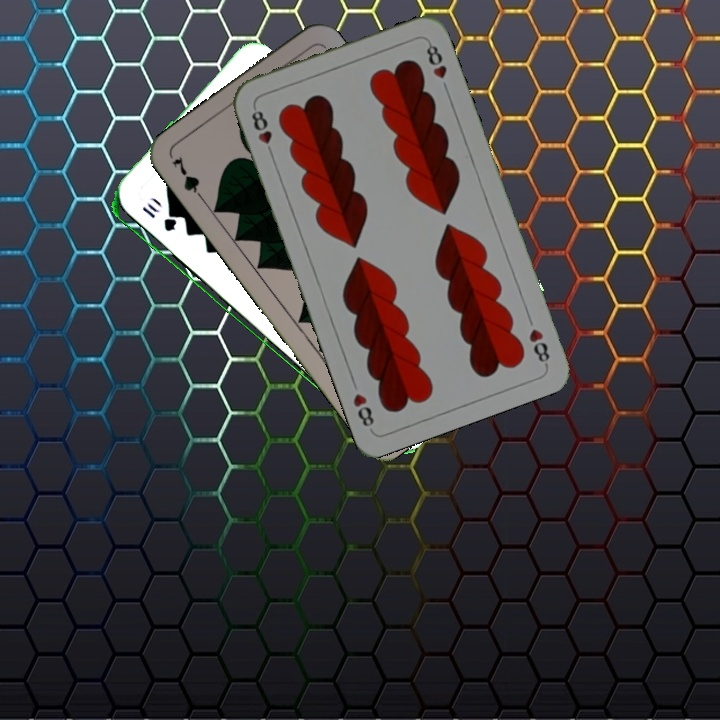G10: (138, 202, 178, 235)
G7: (168, 152, 209, 206)
H8: (247, 102, 277, 159), (524, 324, 553, 368)
